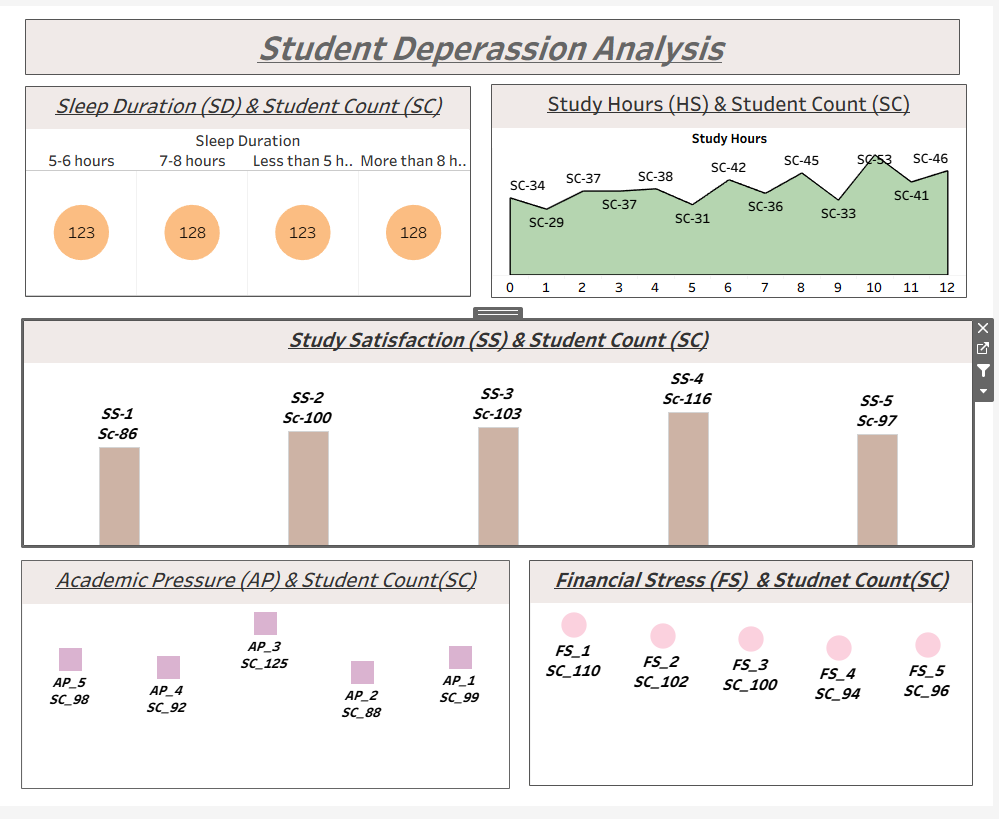

The dashboard page shown, as its layout file describes it:
{"tool":"tableau","page":{"name":"Student Count Analysis","canvas":[1000,800],"ordinal":0},"visuals":[{"type":"text","box":[32,13,935,56]},{"type":"worksheet","title":"SH &SC","mark":"Area","rows":["Index_Column"],"cols":["Study_Hours"],"box":[498,78,476,214]},{"type":"worksheet","title":"SD & SC","mark":"Pie","cols":["Sleep_Duration"],"box":[32,80,446,211]},{"type":"worksheet","title":"SS & SC","mark":"Automatic","rows":["Index_Column"],"cols":["Study_Satisfaction"],"box":[30,314,950,226]},{"type":"worksheet","title":"AP $ SC","mark":"Square","rows":["Index_Column"],"cols":["Academic_Pressure"],"box":[28,554,489,229]},{"type":"worksheet","title":"FS & SC","mark":"Circle","rows":["Index_Column"],"cols":["Financial_Stress"],"box":[536,554,444,226]}]}

Visuals, with their boxes on the page's 1000x800 design canvas (x1, y1, x2, y2). These are canvas units, not pixel positions in the 999x819 screenshot, which may show the page scaled, cropped or inside an application window:
text: l=32, t=13, r=967, b=69
"SH &SC" worksheet (Area marks): l=498, t=78, r=974, b=292
"SD & SC" worksheet (Pie marks): l=32, t=80, r=478, b=291
"SS & SC" worksheet: l=30, t=314, r=980, b=540
"AP $ SC" worksheet (Square marks): l=28, t=554, r=517, b=783
"FS & SC" worksheet (Circle marks): l=536, t=554, r=980, b=780
